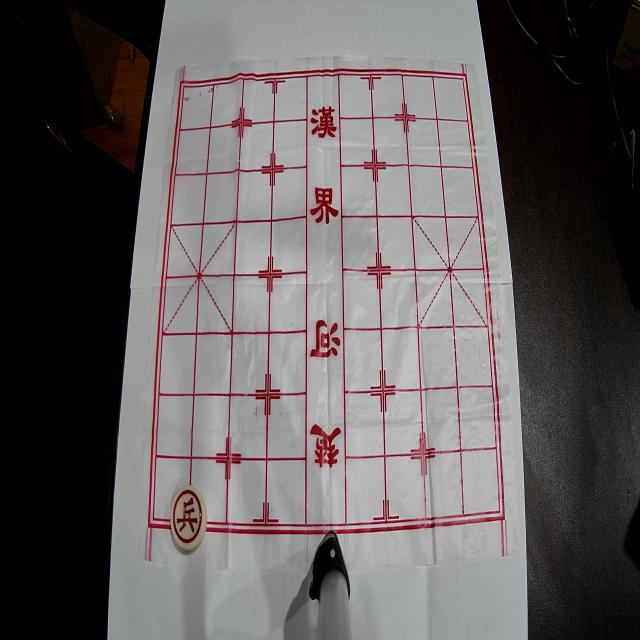red-soldier: (171, 486, 207, 552)
